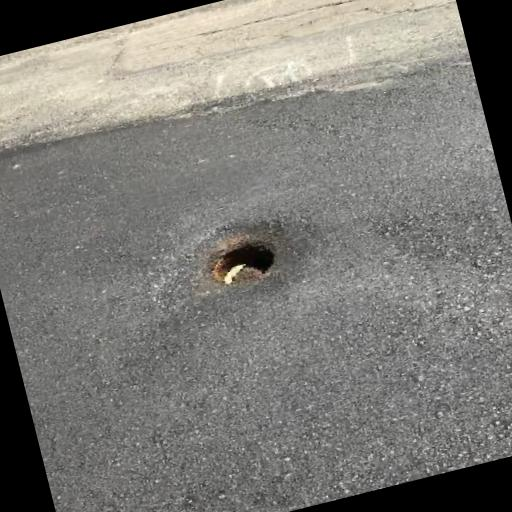pothole: (200, 230, 288, 294)
